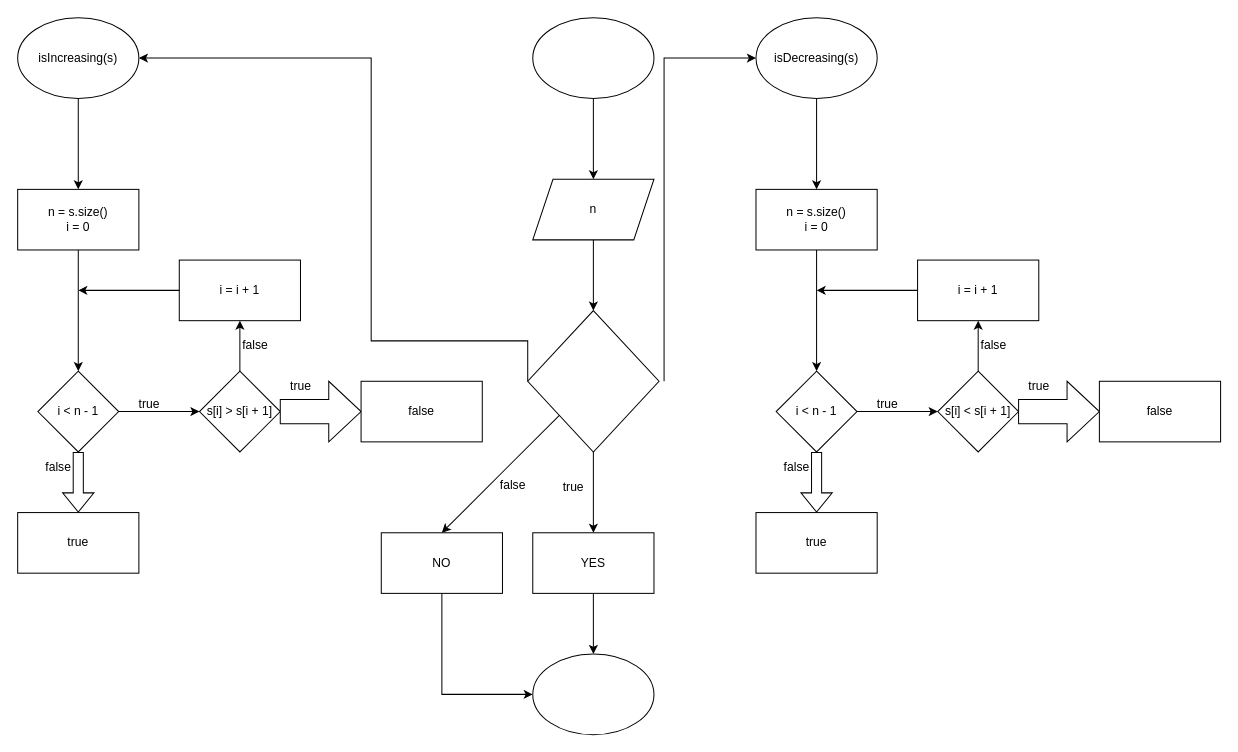
Image size: 1238x752. Some labels were removed from this diagram. Each missing label, with the box of its shape:
Begin: (532, 17, 654, 98)
End: (532, 653, 654, 735)
isIncreasing(s) || isDecreasing(s): (527, 310, 659, 452)
